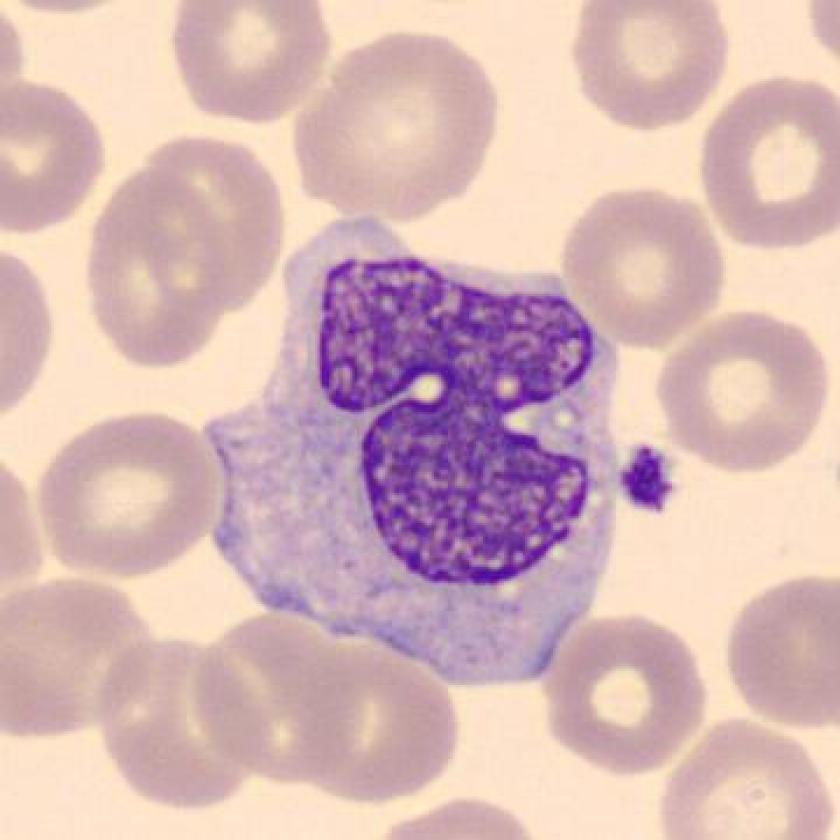monocyte: (193, 200, 641, 711)
